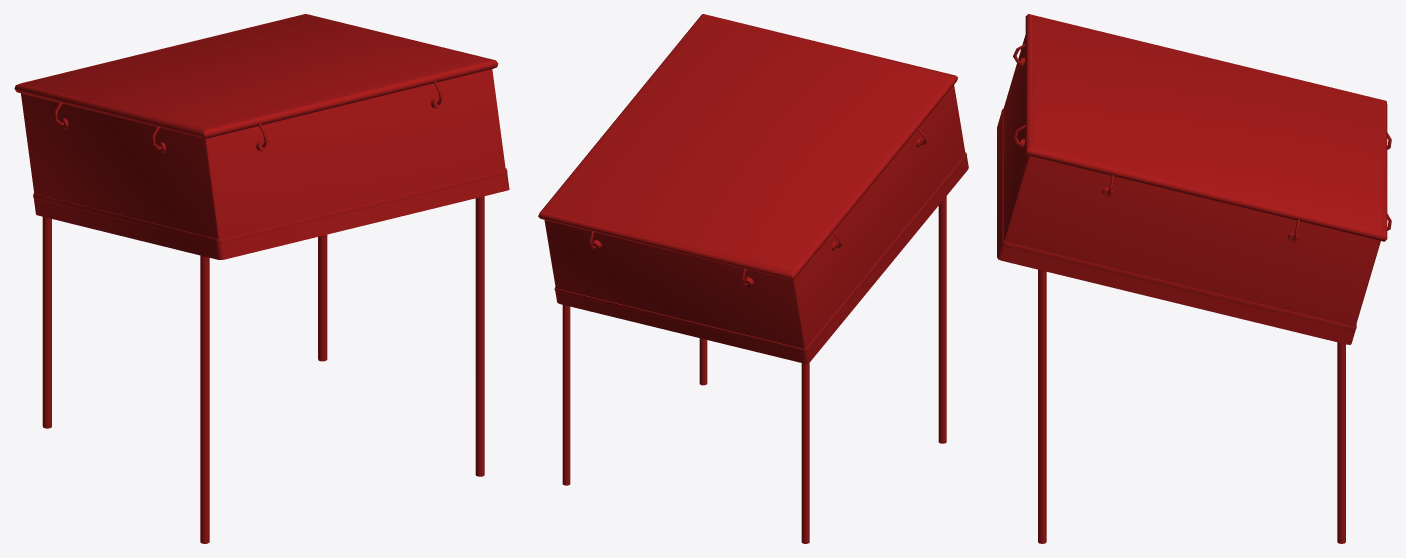
The model's file is SM_yatai_empty.fbx.
3 views of the same model, side by side, from view 1: azimuth 30°, elevation 25°; view 2: azimuth 150°, elevation 25°; view 3: azimuth 270°, elevation 25° (orthographic). The views are drawn at different scales.
Visible parts, largest first — view 1: Cylinder121; view 2: Cylinder121; view 3: Cylinder121.
Part boxes in pixels (bbox=[...]): Cylinder121: bbox=[14, 14, 509, 543]; Cylinder121: bbox=[538, 14, 968, 543]; Cylinder121: bbox=[997, 14, 1391, 543].
Bounding box in the file's own units: 111 × 143 × 129.
